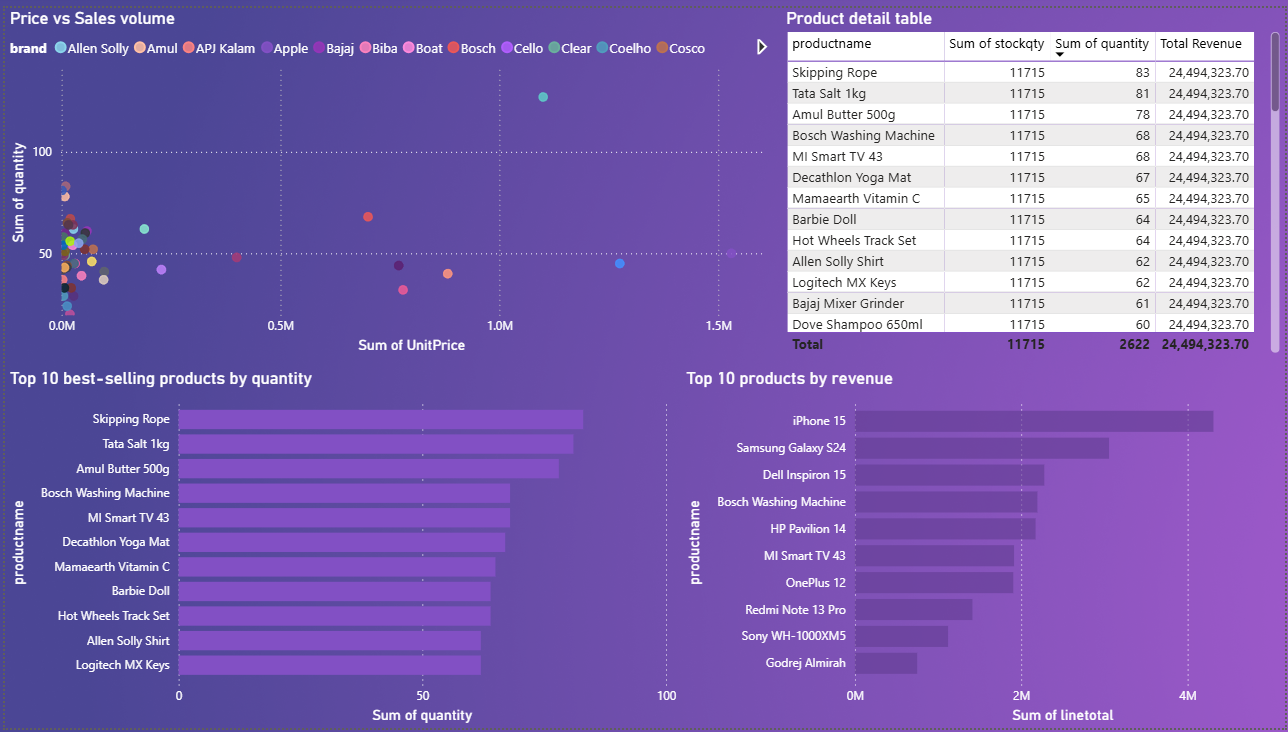

What the dashboard file says about the page in this screenshot:
{"tool":"powerbi","page":{"name":"Page 3","canvas":[1280,720],"ordinal":2},"visuals":[{"type":"clusteredBarChart","title":"Top 10 best-selling products by quantity","fields":{"Category":["project products.productname"],"Y":["Sum(project orderitem.quantity)"]},"box":[0,360,676.2,360],"z":0},{"type":"clusteredBarChart","title":"Top 10 products by revenue","fields":{"Category":["project products.productname"],"Y":["Sum(project orderitem.linetotal)"]},"box":[676.2,360,603.8,360],"z":1000},{"type":"scatterChart","title":"Price vs Sales volume","fields":{"X":["Sum(project orderitem.UnitPrice)"],"Y":["Sum(project orderitem.quantity)"],"Series":["project products.brand"]},"box":[0,0,776.2,350],"z":2000},{"type":"tableEx","title":"Product detail table","fields":{"Values":["project products.productname","Sum(Sheet1.stockqty)","Sum(project orderitem.quantity)","project orders.Total Revenue"]},"box":[776.2,0,503.8,350],"z":3000}]}

Visuals, with their boxes in screenshot pixels (x1, y1, x2, y2), scaled from the page's 1280x720 canvas onto the 1288x732 screenshot:
"Top 10 best-selling products by quantity" clusteredBarChart: <box>0,366,680,731</box>
"Top 10 products by revenue" clusteredBarChart: <box>680,366,1287,731</box>
"Price vs Sales volume" scatterChart: <box>0,0,781,356</box>
"Product detail table" tableEx: <box>781,0,1287,356</box>
